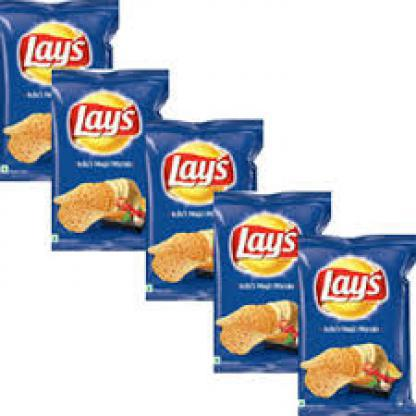indian_magic_masala: (298, 237, 414, 414), (213, 193, 326, 374), (144, 117, 257, 298), (52, 70, 161, 248), (0, 2, 104, 176)
